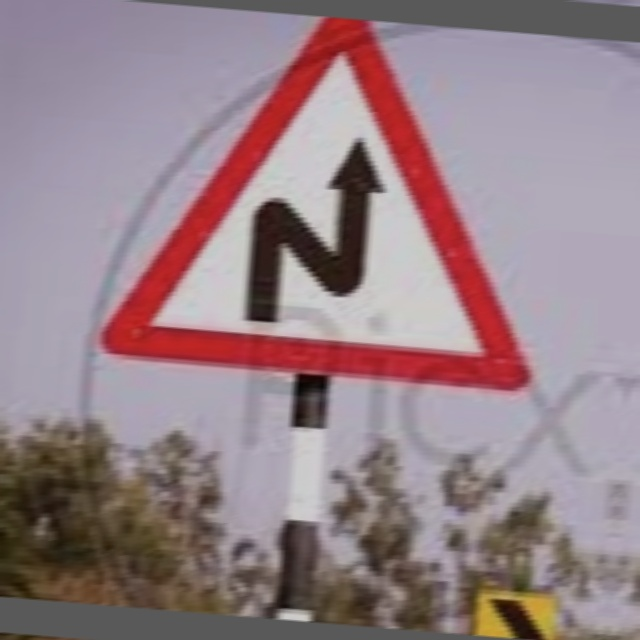Right_Reverse_Bend: (118, 27, 548, 391)
